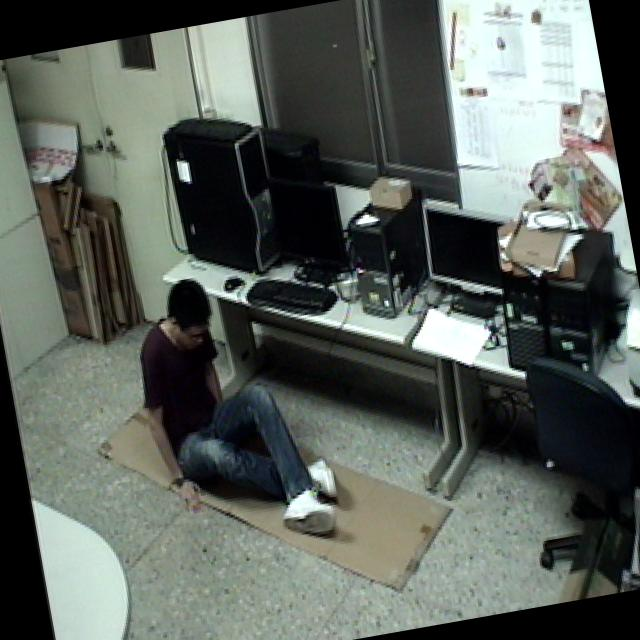sit: (116, 249, 350, 566)
